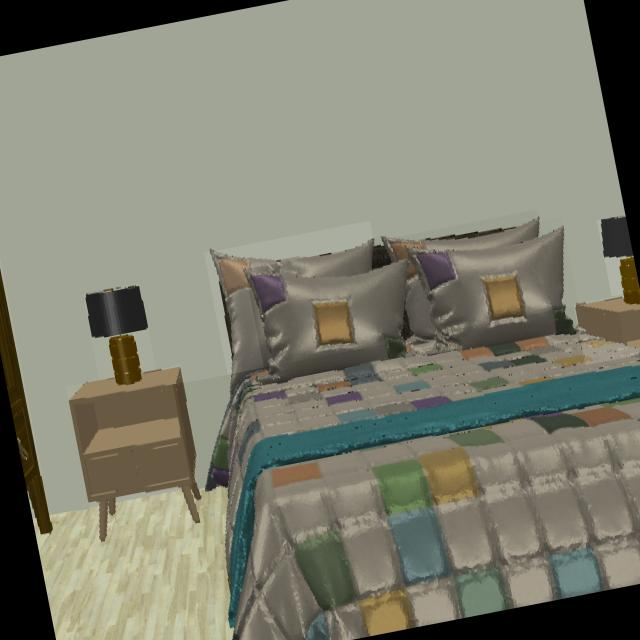bed: (207, 334, 640, 640), (372, 237, 393, 271)
lamp: (86, 287, 149, 387), (601, 218, 640, 304)
nighttable: (69, 369, 202, 541), (576, 296, 640, 349)
pillow: (212, 241, 375, 395), (398, 228, 568, 351), (245, 261, 408, 380), (386, 218, 540, 263), (404, 276, 437, 340)
wardrobe: (0, 265, 53, 535)
